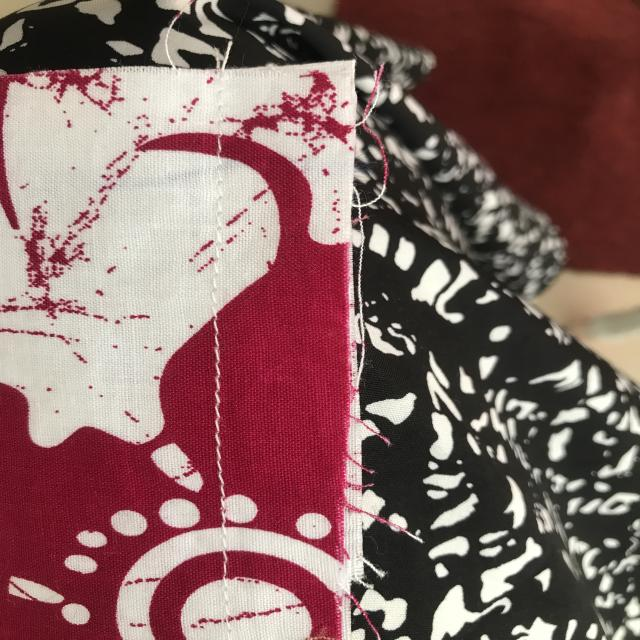good: (201, 334, 240, 472)
